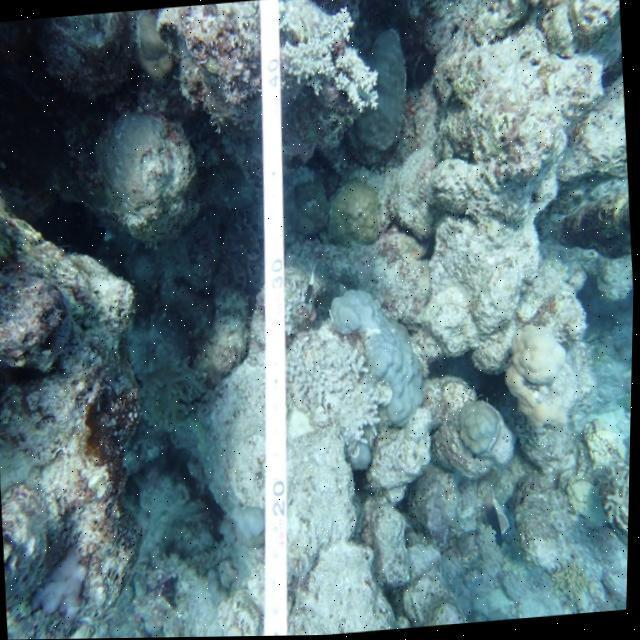Bleached Coral: (288, 321, 392, 469), (280, 0, 377, 112)
